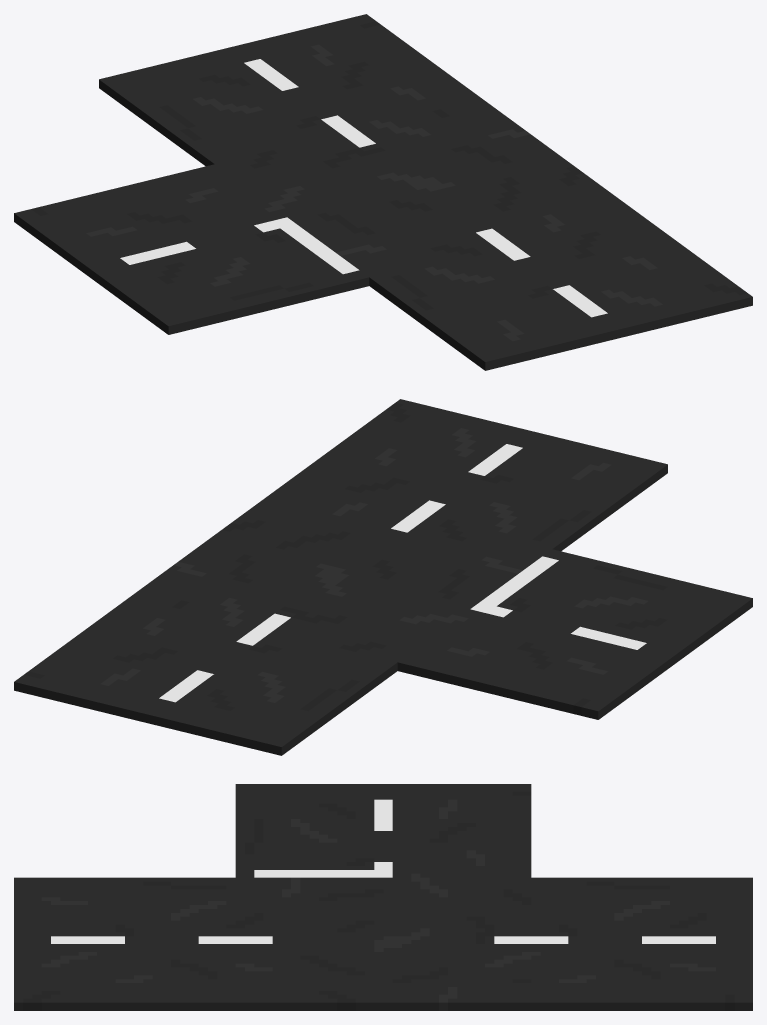
File: tcrossing.gltf
3 views of the same model, one above another, from view 1: azimuth 30°, elevation 25°; view 2: azimuth 150°, elevation 25°; view 3: azimuth 270°, elevation 25° (orthographic). The views are drawn at different scales.
Parts seen in each view (by area): view 1: Layer.2; view 2: Layer.2; view 3: Layer.2.
Boxes of the visible parts, bbox=[...] form: Layer.2: bbox=[14, 14, 752, 370]; Layer.2: bbox=[14, 399, 752, 755]; Layer.2: bbox=[14, 784, 752, 1010].
Bounding box in the file's own units: 56 × 1 × 80.
1 material, 1 textured.
